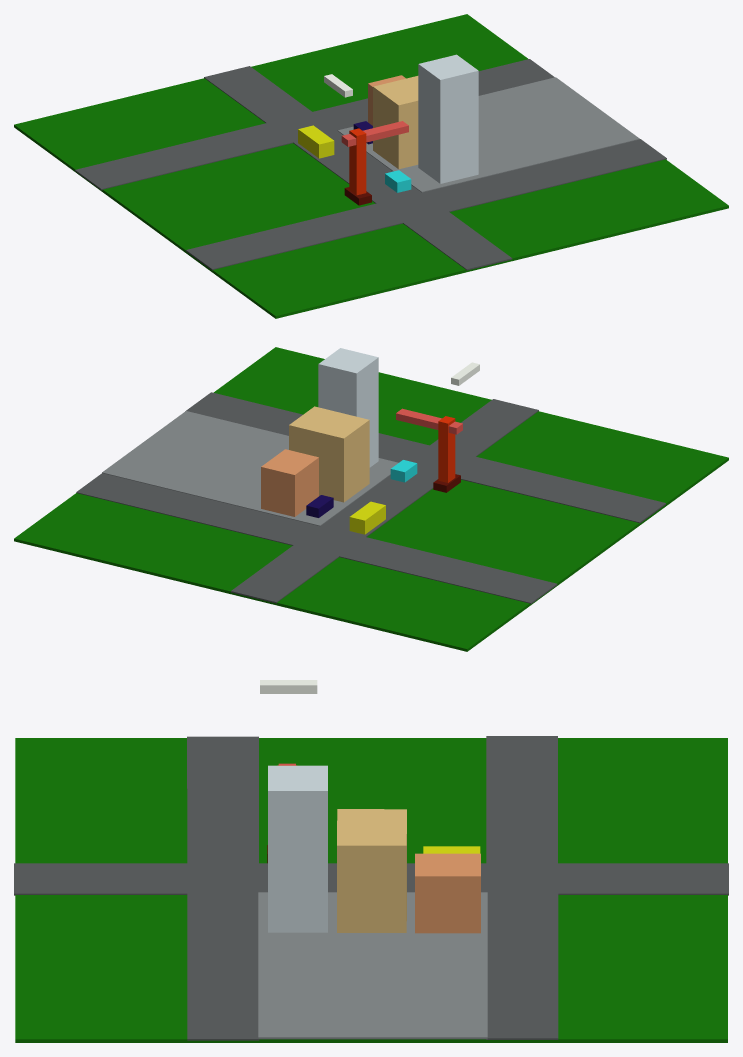
The picture shows the model from 3 angles, top to bottom: view 1: azimuth 30°, elevation 25°; view 2: azimuth 150°, elevation 25°; view 3: azimuth 270°, elevation 25°; orthographic projection. The views are drawn at different scales.
Parts seen in each view (by area): view 1: Cube, Cube.015, Cube.012, Cube.013, Cube.014, Cube.005, Cube.004, Cube.010, Cube.009, Cube.011; view 2: Cube, Cube.012, Cube.014, Cube.013, Cube.015, Cube.004, Cube.005, Cube.003, Cube.010, Cube.009, Cube.011; view 3: Cube, Cube.012, Cube.014, Cube.015, Cube.013, Cube.005, Cube.004, Cube.003, Cube.008.
Boxes of the visible parts, x1,y1,x2,y2 form: Cube: (14, 14, 728, 318); Cube.015: (186, 139, 666, 270); Cube.012: (337, 77, 639, 192); Cube.013: (204, 66, 512, 270); Cube.014: (75, 59, 554, 190); Cube.005: (418, 54, 478, 183); Cube.004: (373, 76, 418, 169); Cube.010: (349, 128, 366, 195); Cube.009: (298, 125, 334, 158); Cube.011: (341, 121, 408, 146); Cube: (14, 347, 728, 651); Cube.012: (102, 411, 398, 526); Cube.014: (76, 473, 557, 604); Cube.013: (231, 399, 538, 603); Cube.015: (185, 392, 665, 523); Cube.004: (289, 406, 369, 502); Cube.005: (318, 348, 378, 467); Cube.003: (261, 449, 318, 516); Cube.010: (438, 416, 455, 482); Cube.009: (349, 501, 385, 534); Cube.011: (396, 408, 462, 434); Cube: (15, 738, 727, 1042); Cube.012: (258, 892, 487, 1039); Cube.014: (486, 736, 558, 1039); Cube.015: (187, 736, 259, 1040); Cube.013: (14, 863, 728, 895); Cube.005: (268, 765, 327, 932); Cube.004: (337, 809, 406, 932); Cube.003: (415, 853, 480, 933); Cube.008: (260, 680, 317, 693).
Bounding box in the file's own units: 684 × 176 × 682.
